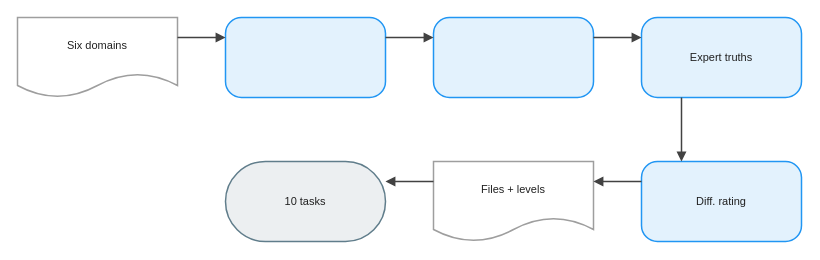
Image size: 820x260. Some labels were removed from this diagram. The centre of each missing label's shape, as x and y in pixels:
10 task specs: the point at 305,57
7 source paths: the point at 513,57
